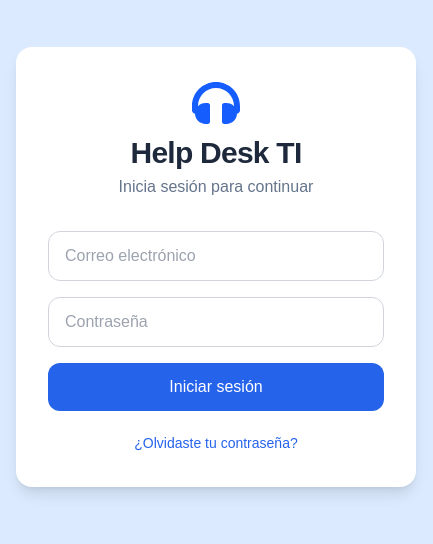
Scenario: LoginPage › debe mostrar error si las credenciales son inválidas
The width and height of the screenshot is (433, 544).
Type "test@test.com" into the field with placeholder "Correo electrónico" at (216, 256), box [48,231,384,281]
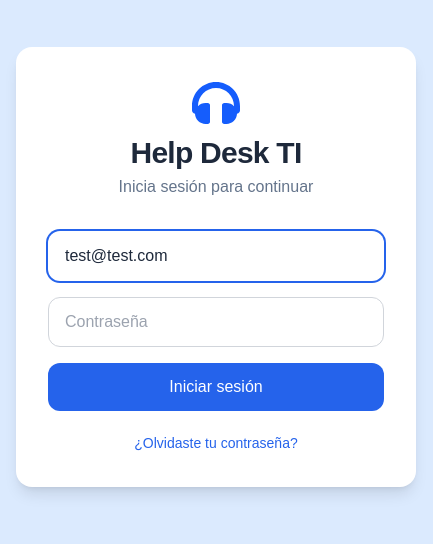
Type "wrongpassword" into the password field with placeholder "Contraseña" at (216, 322), box [48,297,384,347]
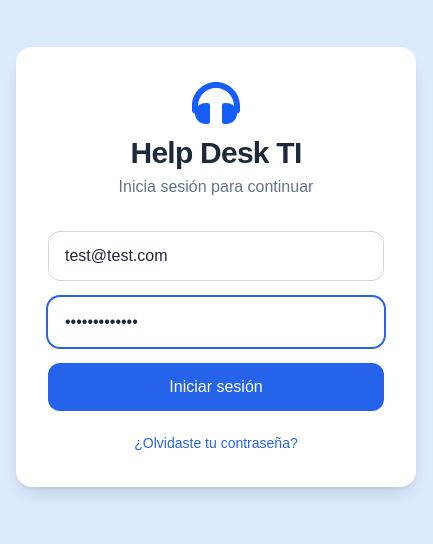
Click the button "Iniciar sesión" at (216, 387), box [48,363,384,411]
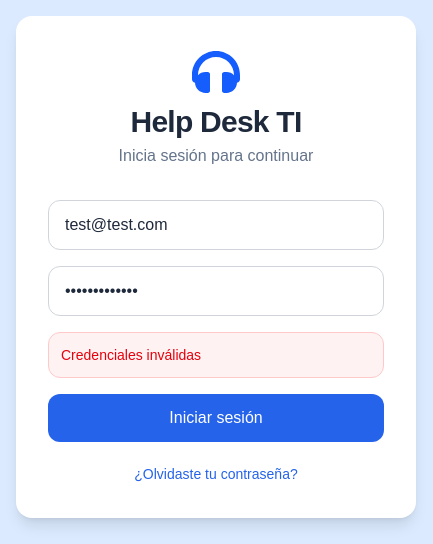
Expected: the text "Credenciales inválidas" is shown, [48,332,384,378]
